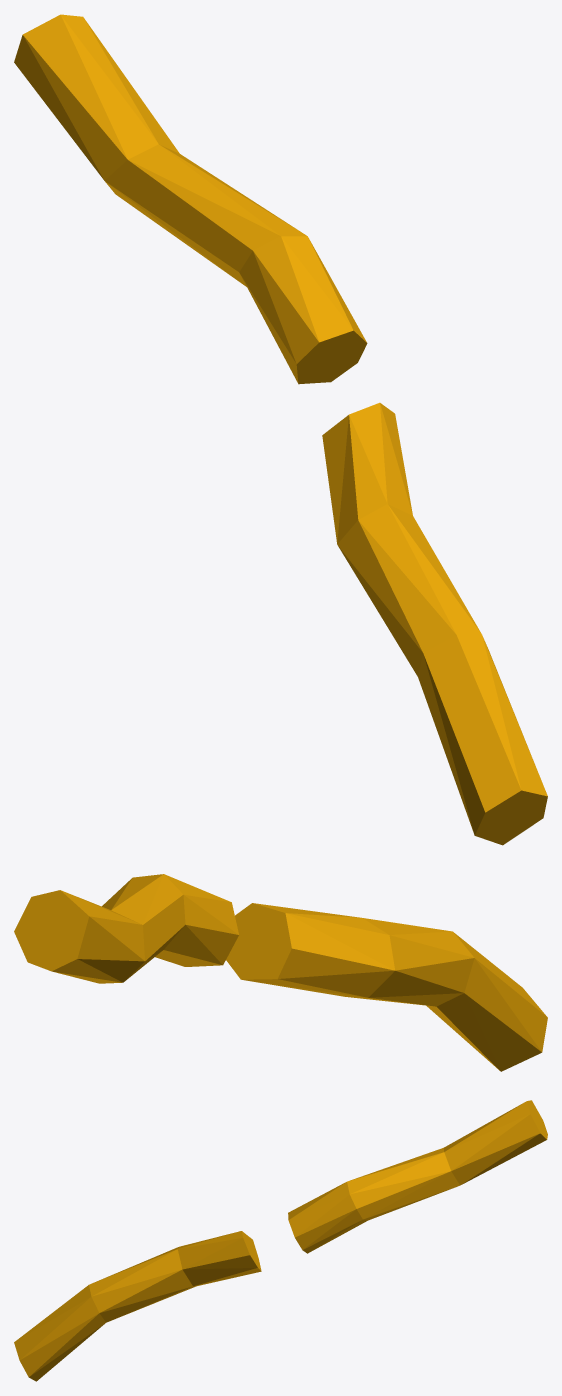
The model's file is yellowCut.fbx.
3 renders of one model, top to bottom at view 1: azimuth 30°, elevation 25°; view 2: azimuth 150°, elevation 25°; view 3: azimuth 270°, elevation 25°, orthographic. The views are drawn at different scales.
Visible parts, largest first — view 1: yellow; view 2: yellow; view 3: yellow.
Part boxes in pixels (box(x1,y1,x2,y2)): yellow: box(14, 14, 547, 845); yellow: box(14, 874, 547, 1071); yellow: box(14, 1100, 547, 1381).
Size of the model in its own units: 10.12 by 36.83 by 63.47.
